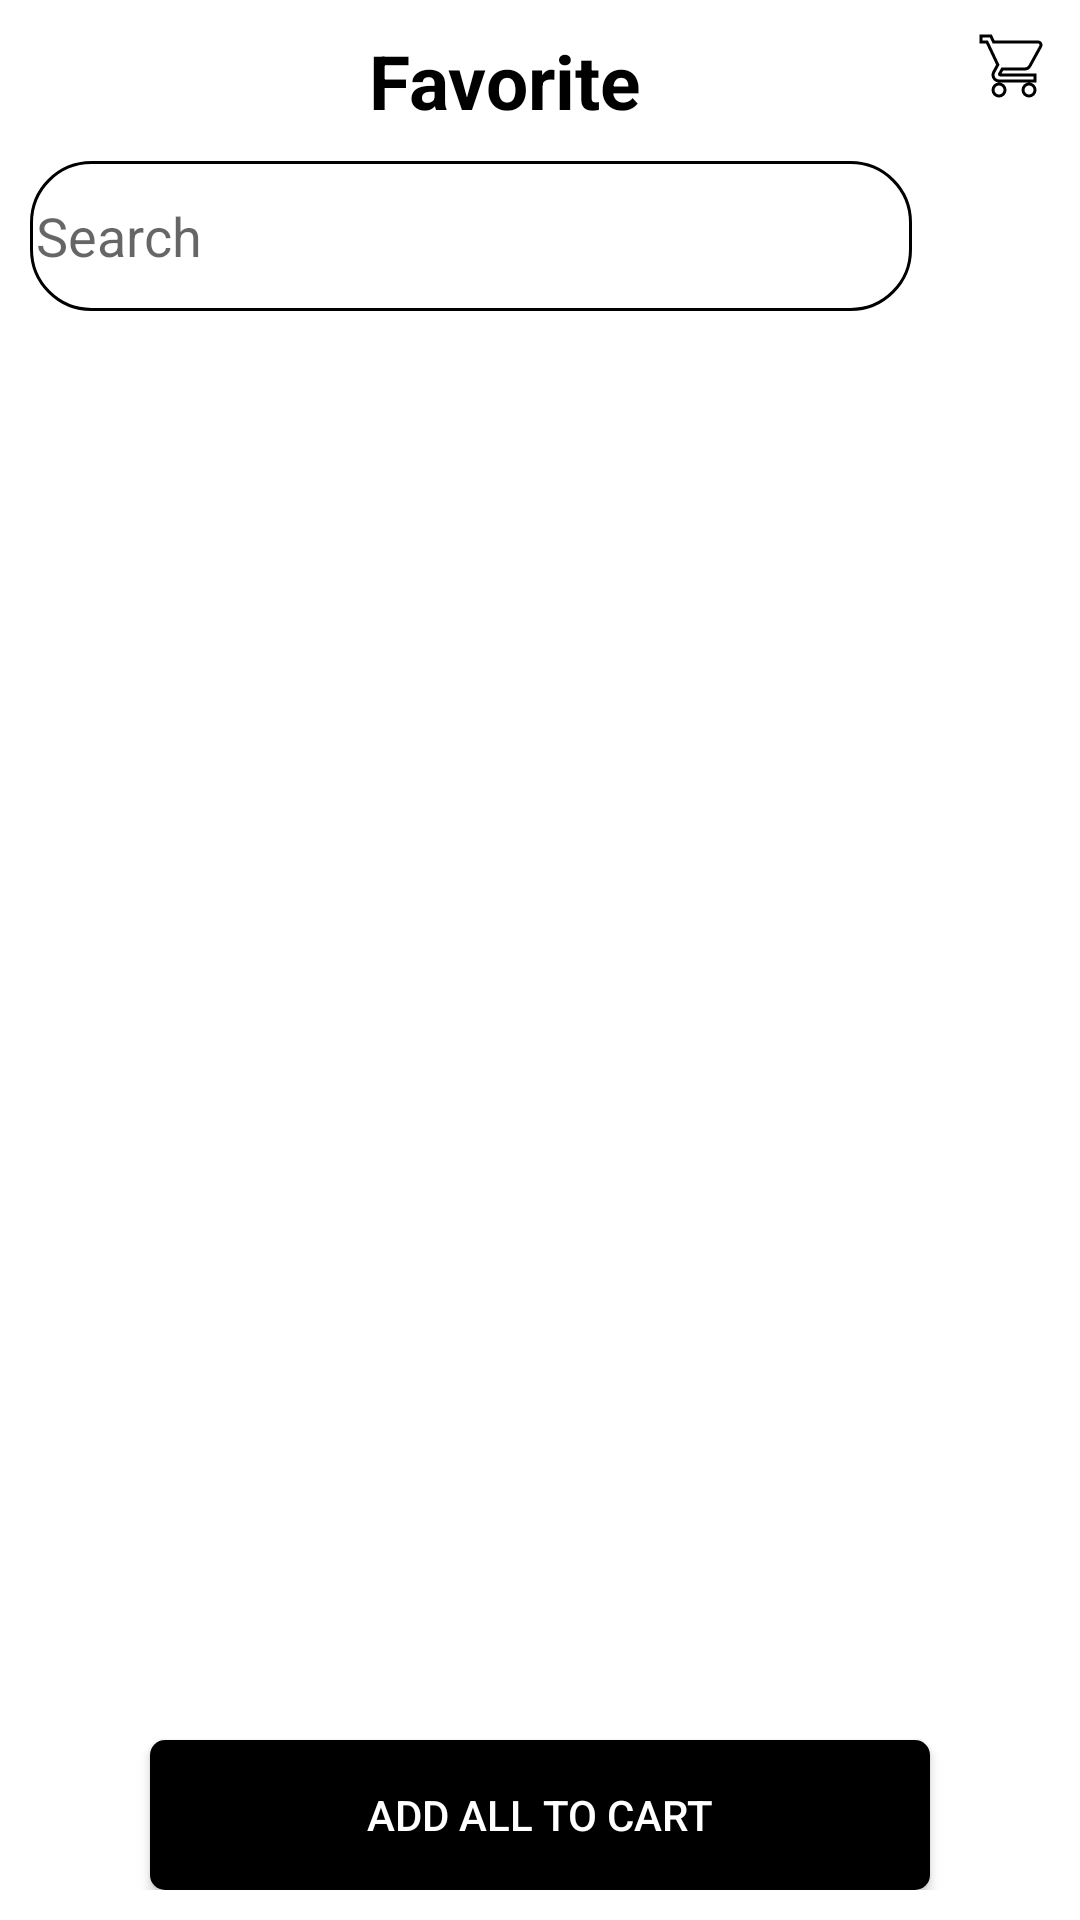

Named icons in this screenshot (1080px x 1920px) and their centers, (x=x, y=y):
shopping cart: (x=1011, y=66)
